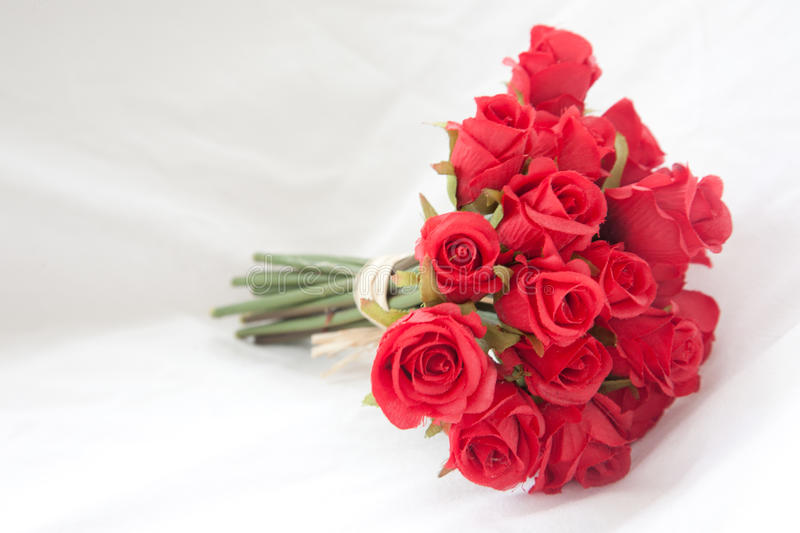RedRose: (357, 303, 496, 433), (491, 14, 618, 109), (438, 387, 541, 493), (490, 164, 607, 253), (503, 251, 602, 346), (526, 399, 630, 487), (638, 169, 739, 250), (447, 88, 528, 188), (412, 205, 504, 292), (509, 85, 608, 164), (504, 330, 613, 401), (626, 315, 712, 401), (583, 241, 658, 317), (612, 99, 673, 177), (607, 380, 664, 435)
